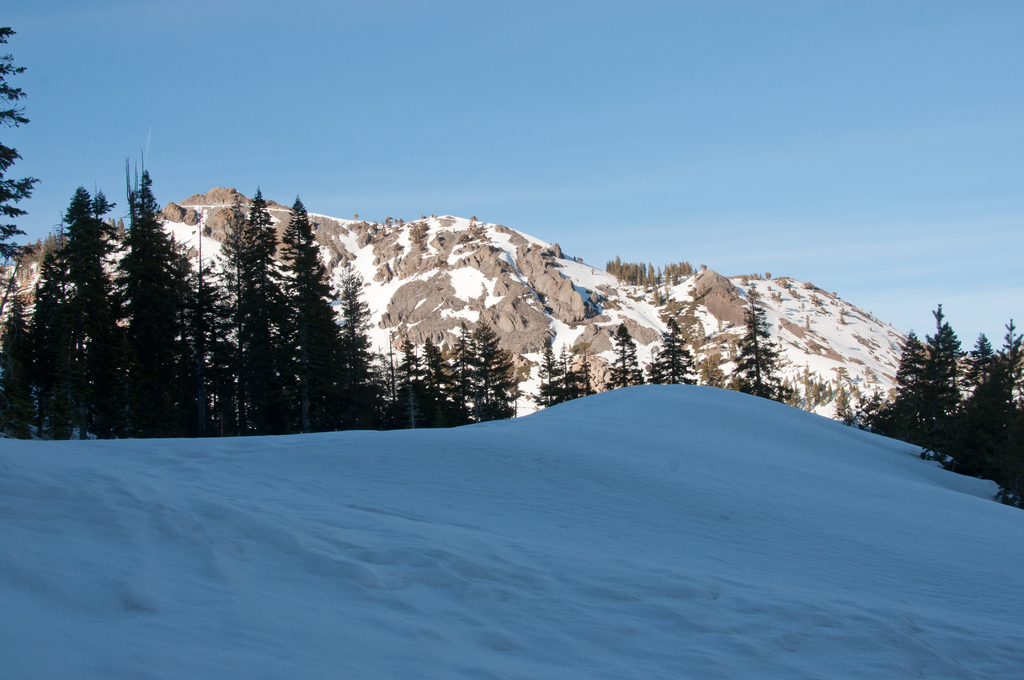Tree: (113, 171, 385, 441), (838, 302, 1023, 501), (26, 149, 126, 442), (372, 316, 526, 429), (0, 17, 33, 286), (730, 286, 783, 407), (0, 286, 33, 440), (535, 329, 592, 407), (647, 307, 684, 393), (609, 318, 640, 386)
